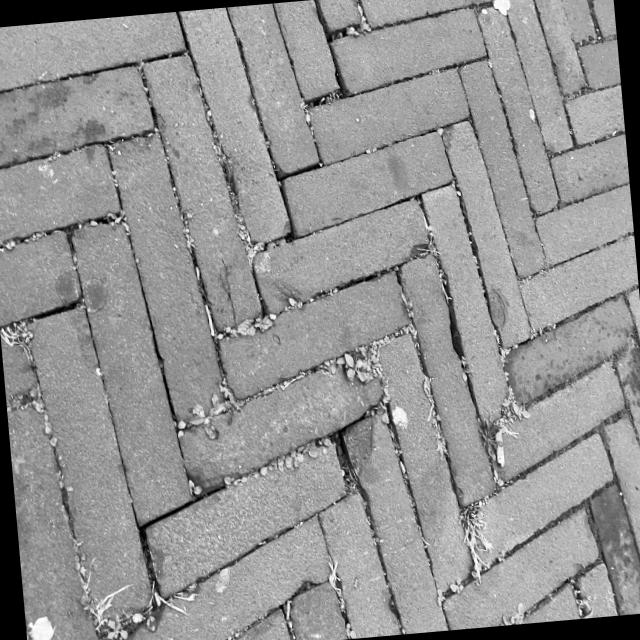weedling: (378, 541, 613, 626)
